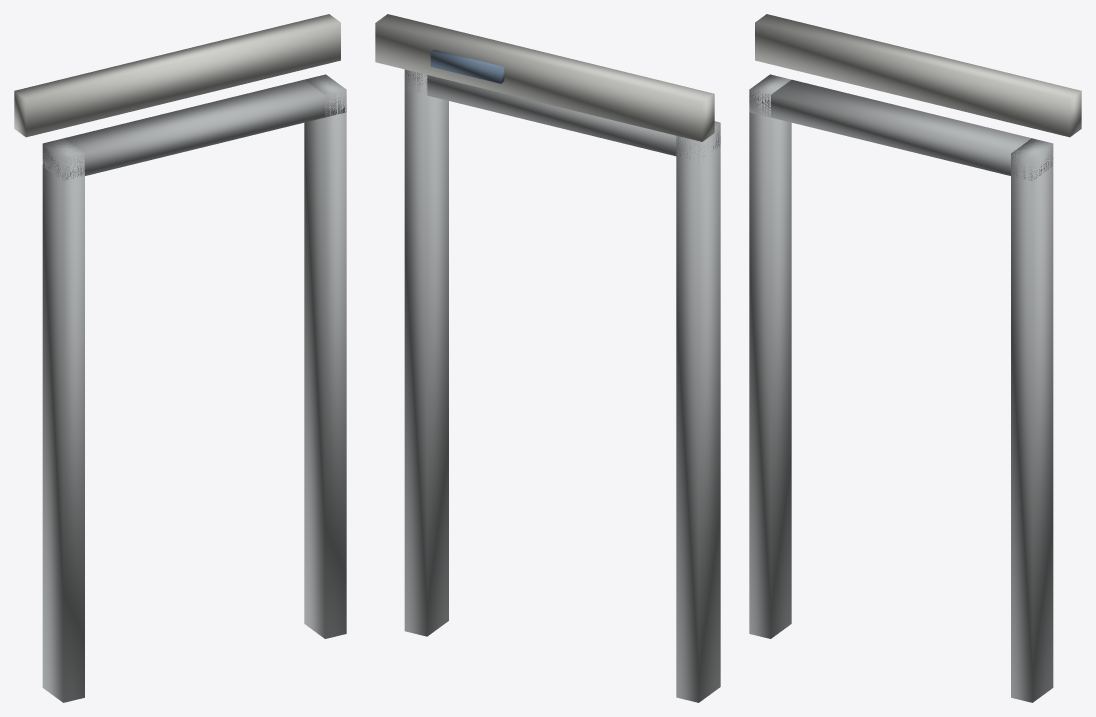
The model's file is doorway_hospital_w106_h220_d16.glb.
The picture shows the model from 3 angles, left to right: view 1: azimuth 30°, elevation 25°; view 2: azimuth 150°, elevation 25°; view 3: azimuth 330°, elevation 25°; orthographic projection. The views are drawn at different scales.
Visible parts, largest first — view 1: world; view 2: world; view 3: world.
Boxes of the visible parts, x1=… form: world: x1=14, y1=14, x2=346, y2=702; world: x1=375, y1=14, x2=720, y2=702; world: x1=749, y1=14, x2=1081, y2=702.
Bounding box in the file's own units: 1.39 × 2.5 × 0.28.
